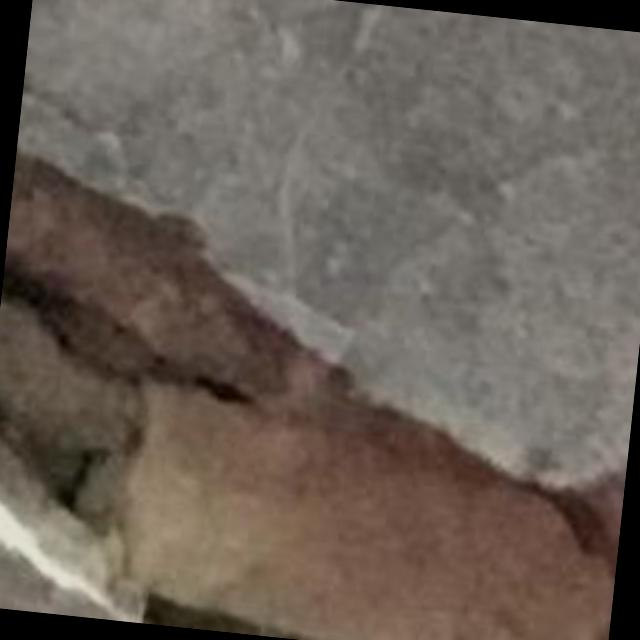crack: (0, 149, 625, 639)
